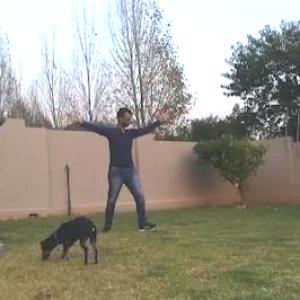takeoff: (42, 101, 167, 244)
